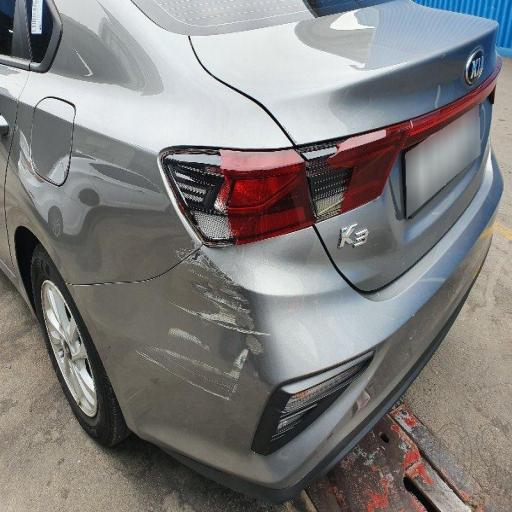scratch: (167, 180, 261, 426)
